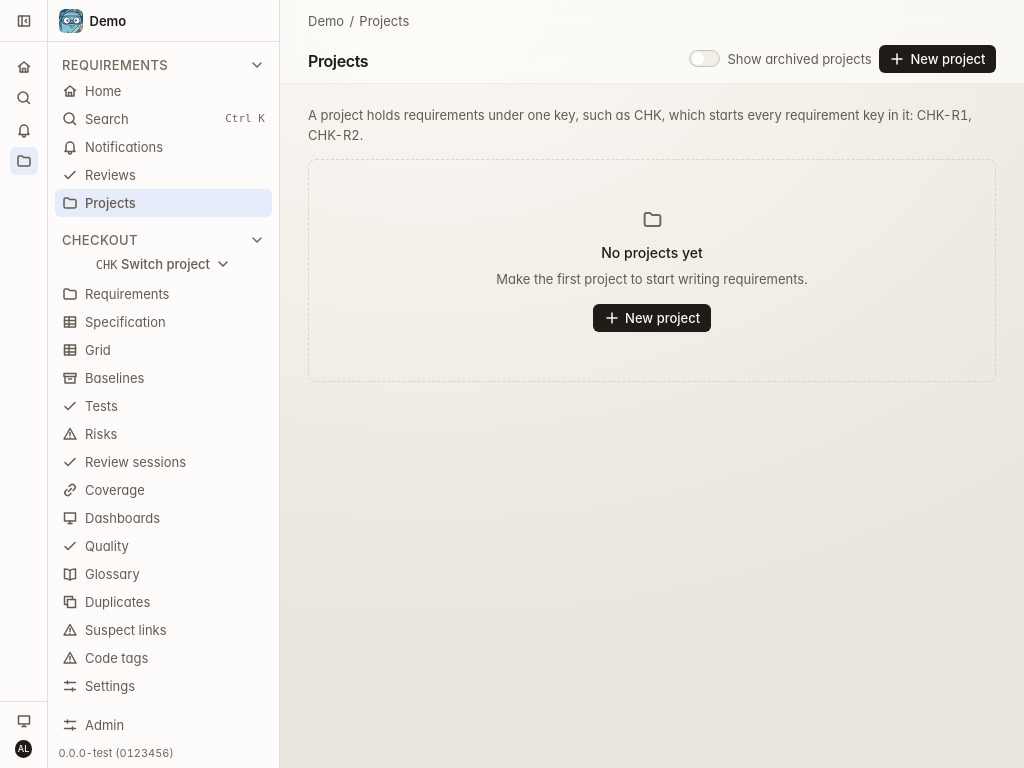
the notification bell › says so when there is nothing, and links to everything and to the settings
The image size is (1024, 768).
Click the button named "Notifications".
click(24, 130)  # box [10,116,38,144]
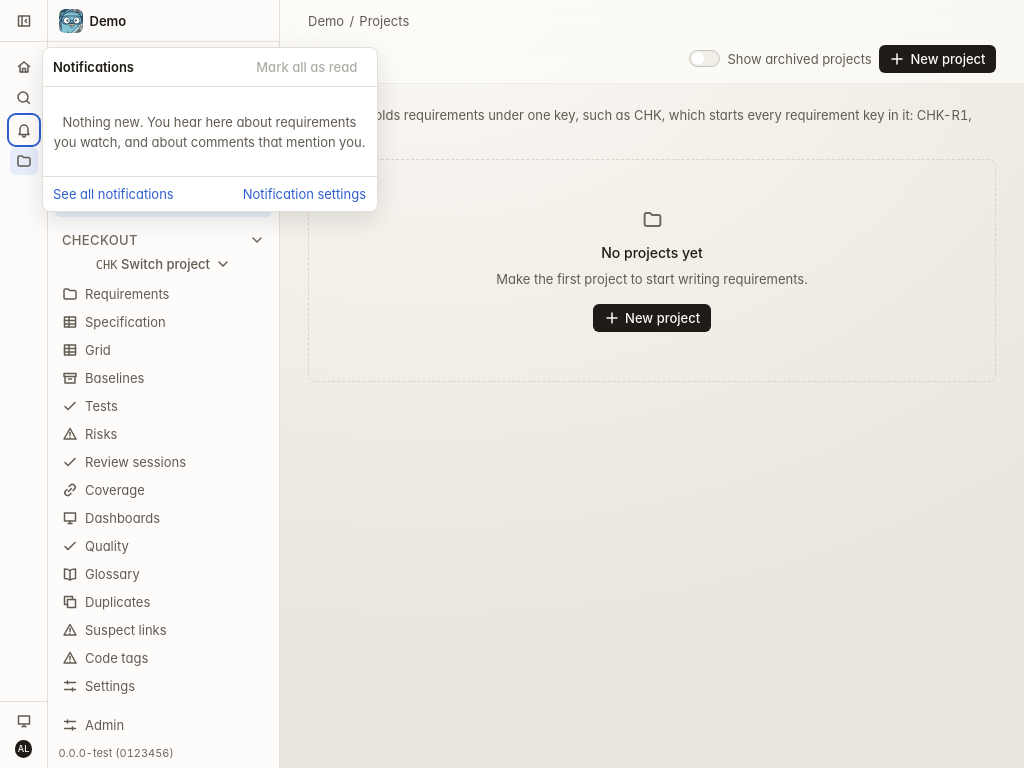
Now the text "Nothing new" is shown, box [54,114,365,150]
Now the button "Mark all as read" is disabled, box [248,54,366,79]
